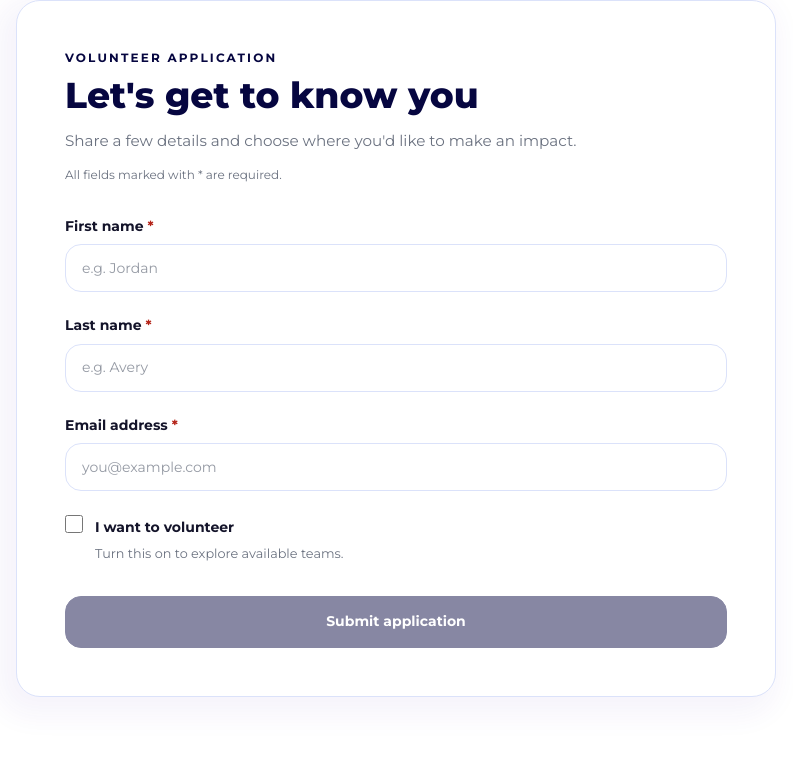
Test: FormRenderer › submits the Protocol branch with only its visible values
Type "Jordan" into the field labelled "First name *" at (396,268), box left=65, top=244, right=727, bottom=292
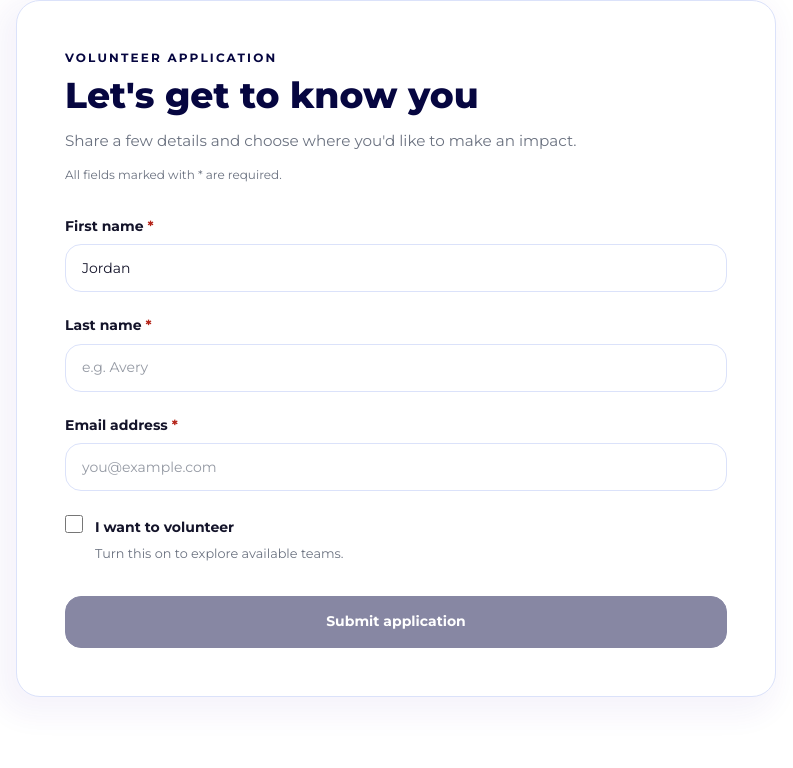
Type "Avery" into the field labelled "Last name *" at (396,368), box left=65, top=344, right=727, bottom=392
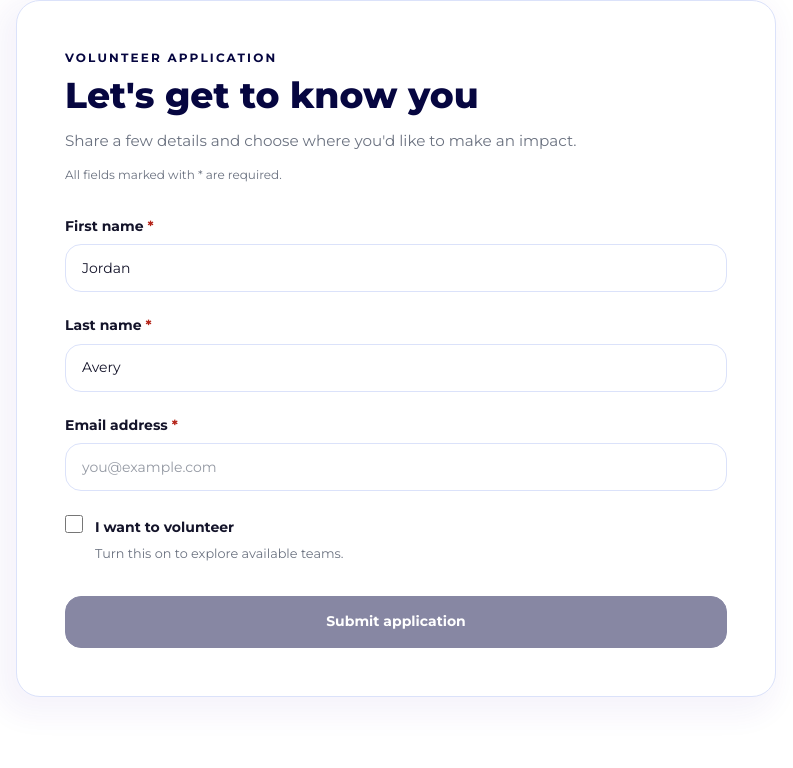
Type "jordan@example.com" into the field labelled "Email address *" at (396,467), box left=65, top=443, right=727, bottom=491
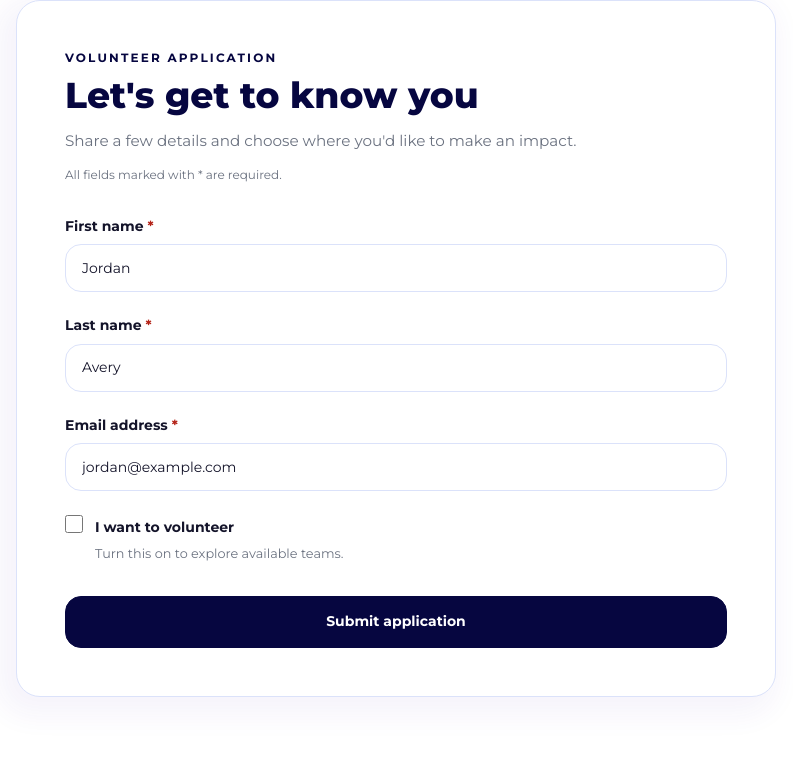
Click the checkbox labelled "I want to volunteer Turn this on to explore available teams." at (74,524), box left=65, top=515, right=83, bottom=533
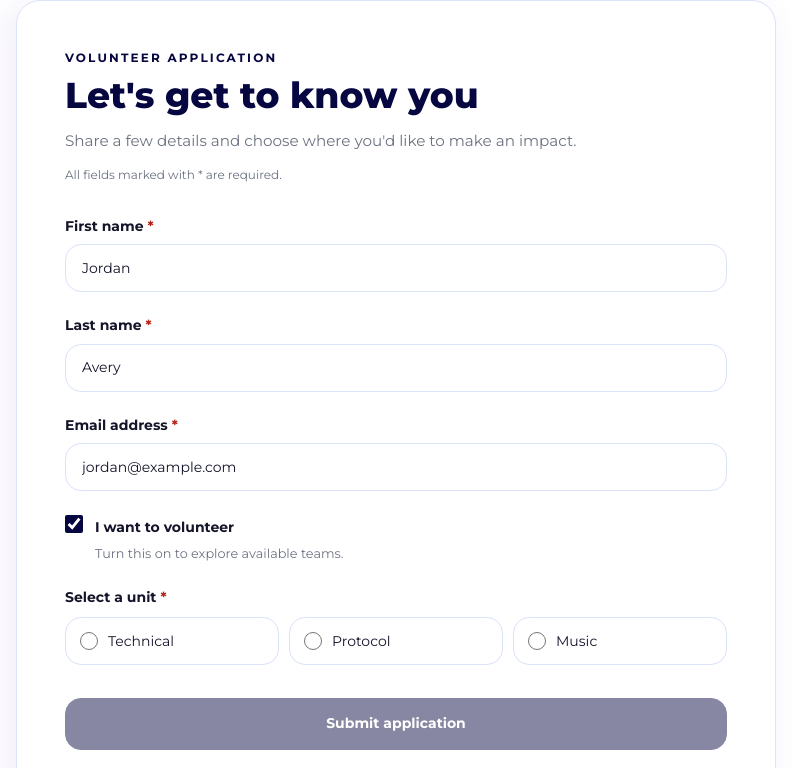
Click the radio button labelled "Protocol" at (313,641), box left=304, top=632, right=322, bottom=650
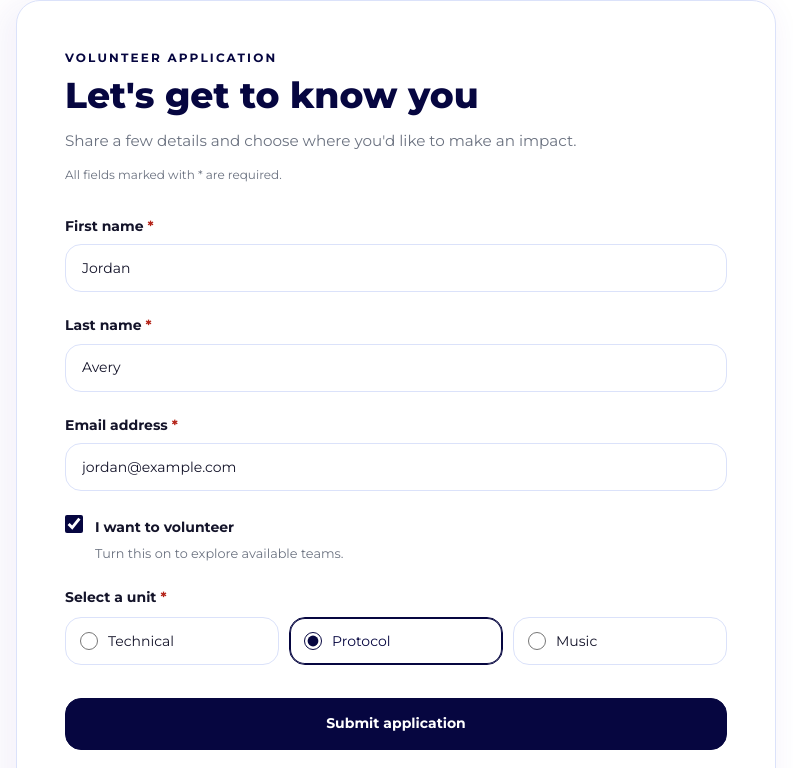
Now the button "Submit application" is enabled
Click the button "Submit application" at (396,724), box left=65, top=698, right=727, bottom=750
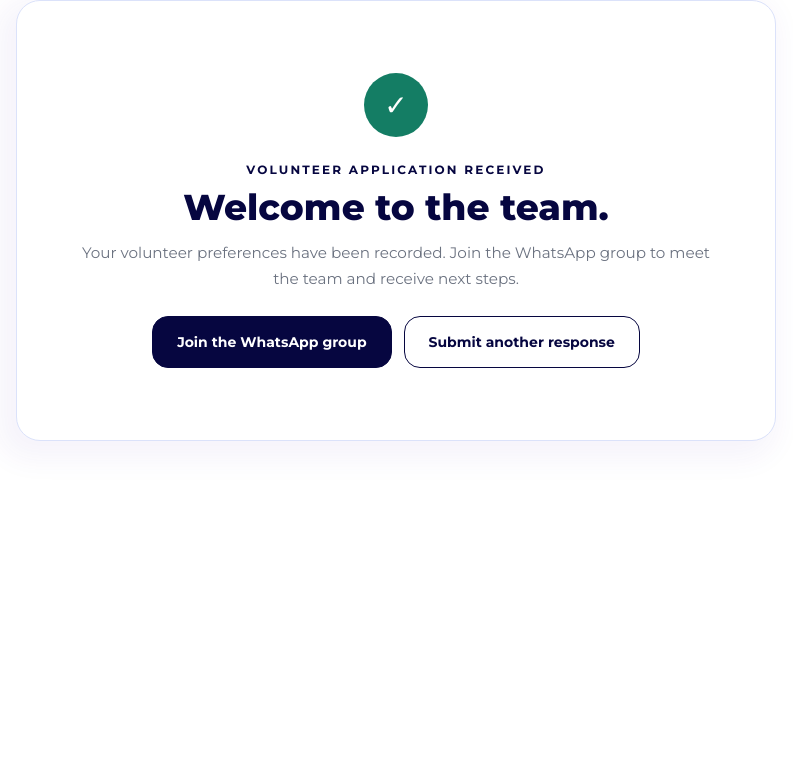
Now the heading "Welcome to the team." is shown, box left=183, top=187, right=609, bottom=228
Now the link "Join the WhatsApp group" is shown, box left=152, top=316, right=392, bottom=368
